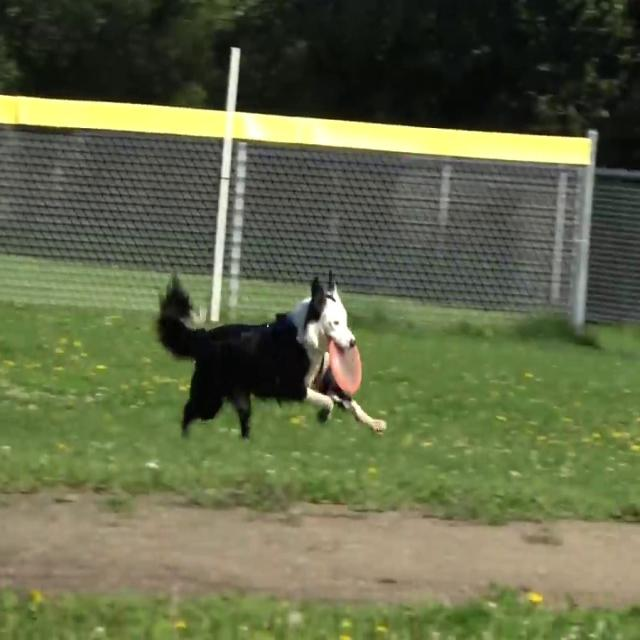Dog: (153, 266, 388, 440)
